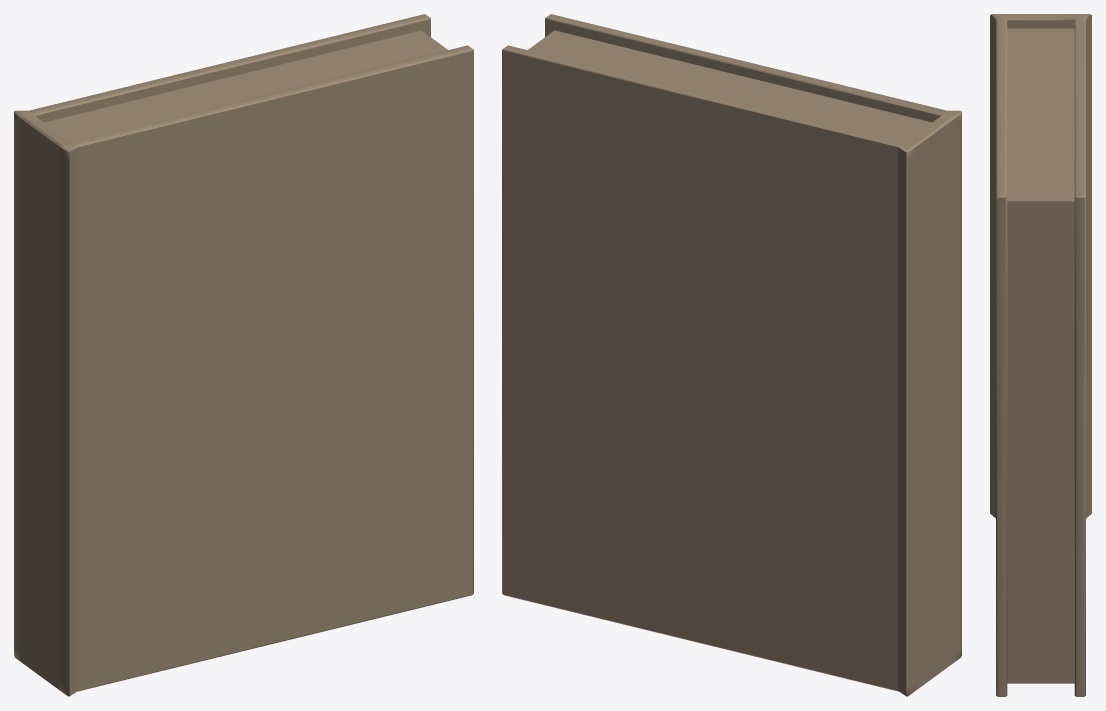
Rendered from Book04.fbx.
The picture shows the model from 3 angles, left to right: view 1: azimuth 30°, elevation 25°; view 2: azimuth 150°, elevation 25°; view 3: azimuth 270°, elevation 25°; orthographic projection. The views are drawn at different scales.
Visible parts, largest first — view 1: Book04; view 2: Book04; view 3: Book04.
Boxes of the visible parts, bbox=[...] form: Book04: bbox=[14, 14, 473, 696]; Book04: bbox=[502, 14, 961, 696]; Book04: bbox=[990, 14, 1091, 696].
Bounding box in the file's own units: 0.2404 × 0.3062 × 0.0564.
